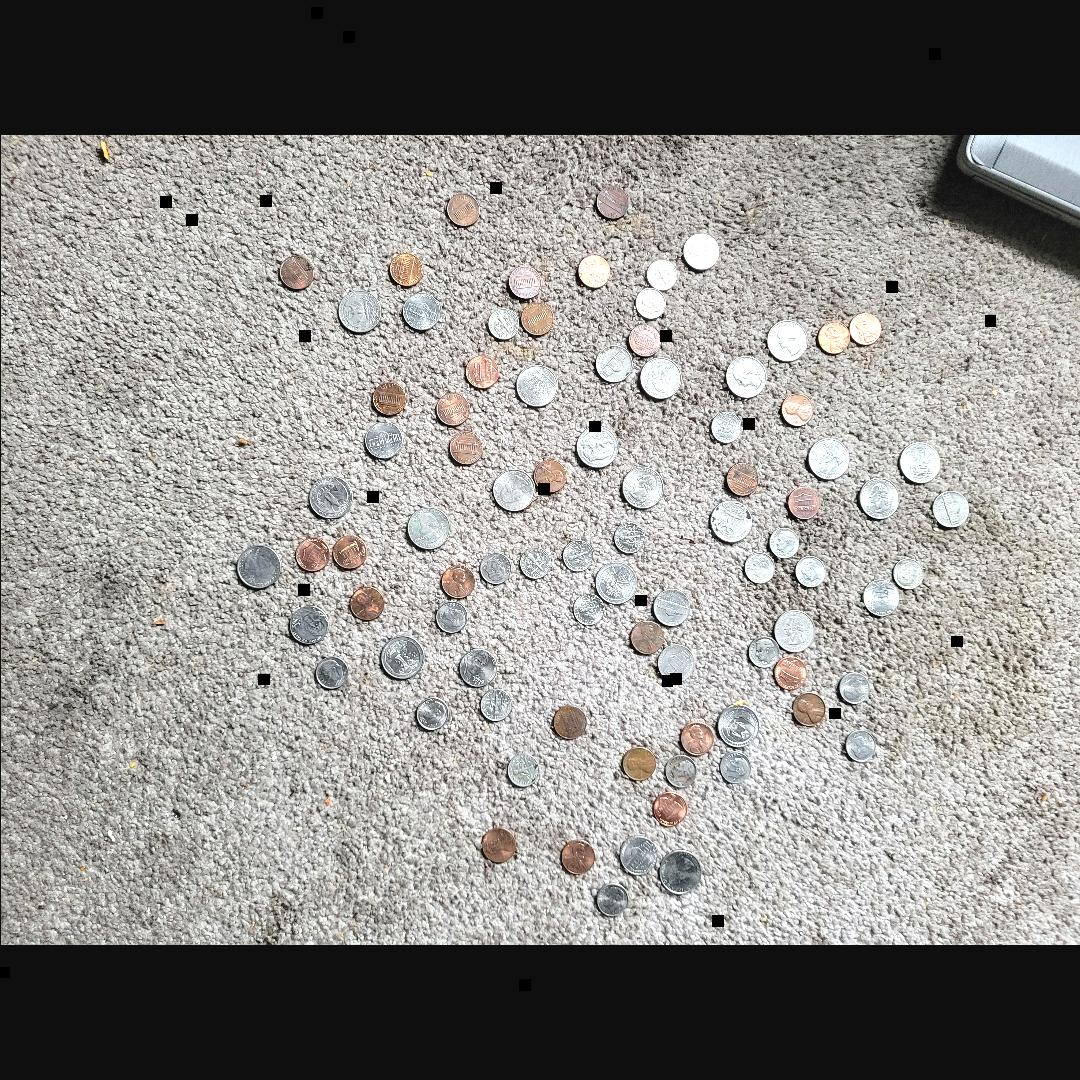Dime: (660, 752, 697, 790), (312, 654, 349, 691), (594, 880, 630, 917), (843, 728, 876, 764), (476, 689, 512, 722), (414, 698, 448, 732), (794, 554, 826, 590), (718, 750, 750, 786), (706, 412, 742, 444), (434, 600, 466, 636), (504, 755, 538, 788), (646, 258, 678, 292), (633, 289, 667, 321), (560, 540, 594, 572), (518, 546, 550, 579), (767, 528, 799, 560), (838, 673, 870, 705), (747, 636, 779, 668), (612, 522, 644, 554), (478, 552, 510, 584), (892, 558, 922, 590), (744, 552, 774, 584), (572, 594, 602, 625), (488, 310, 518, 340)
Nickel: (400, 291, 442, 332), (617, 835, 657, 874), (457, 650, 496, 689), (652, 589, 692, 627), (656, 643, 696, 681), (860, 578, 900, 616), (288, 607, 328, 645), (364, 421, 404, 459), (683, 232, 719, 272), (595, 346, 631, 384), (932, 490, 968, 528)
Penny: (552, 704, 586, 740), (621, 746, 655, 782), (577, 254, 611, 290), (815, 318, 849, 354), (483, 828, 517, 864), (784, 486, 818, 522), (779, 392, 813, 428), (372, 382, 406, 418), (440, 564, 474, 600), (463, 354, 497, 390), (388, 250, 422, 286), (434, 392, 468, 428), (332, 534, 366, 570), (653, 792, 687, 827), (790, 691, 824, 726), (520, 302, 554, 337), (724, 462, 758, 497), (533, 459, 567, 494), (350, 588, 384, 623), (444, 195, 478, 230), (294, 537, 328, 572), (560, 840, 594, 874), (628, 620, 662, 654), (678, 722, 712, 756), (770, 656, 804, 690), (508, 266, 542, 300), (594, 186, 628, 220), (627, 324, 661, 358), (847, 312, 881, 346), (278, 256, 312, 290), (448, 432, 482, 466)
Quarter: (655, 850, 701, 894), (618, 467, 664, 511), (404, 506, 450, 550), (308, 476, 354, 520), (716, 704, 760, 749), (380, 636, 424, 681), (235, 544, 281, 587), (594, 561, 638, 605), (336, 291, 380, 335), (804, 438, 850, 480), (706, 500, 749, 544), (491, 469, 534, 512), (640, 357, 682, 401), (516, 364, 558, 408), (898, 441, 940, 484), (771, 609, 812, 653), (856, 478, 898, 520), (764, 320, 806, 362), (575, 428, 617, 470), (724, 358, 766, 398)
